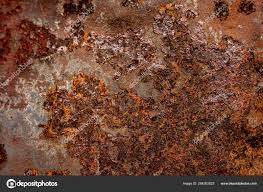rust: (1, 1, 262, 176)
